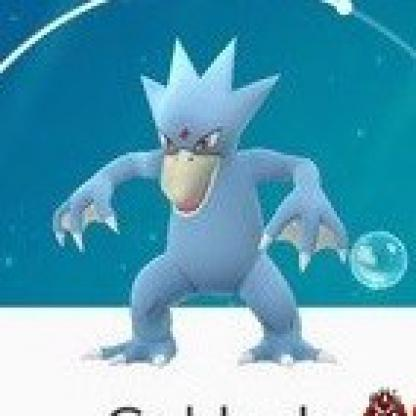Golduck: (44, 29, 380, 373)
